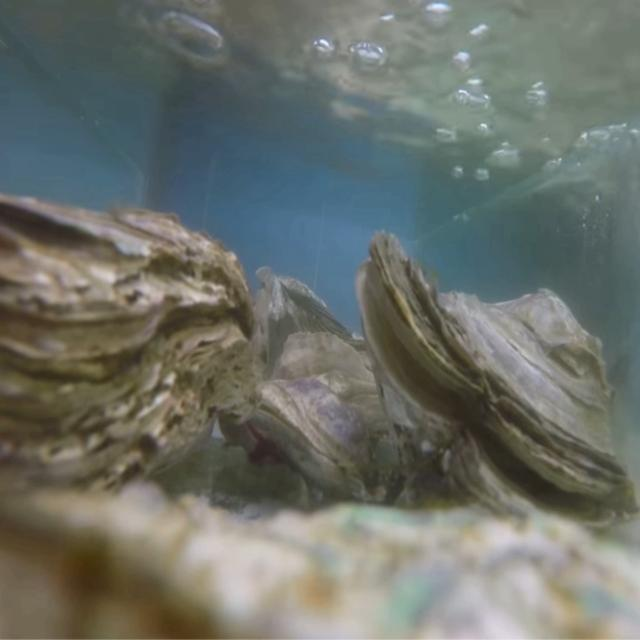Oyster-Closed: (0, 194, 255, 524), (250, 330, 418, 507)
Oyster-Indeterminate: (0, 483, 640, 640), (254, 261, 370, 377)
Oyster-Open: (356, 230, 640, 540)
